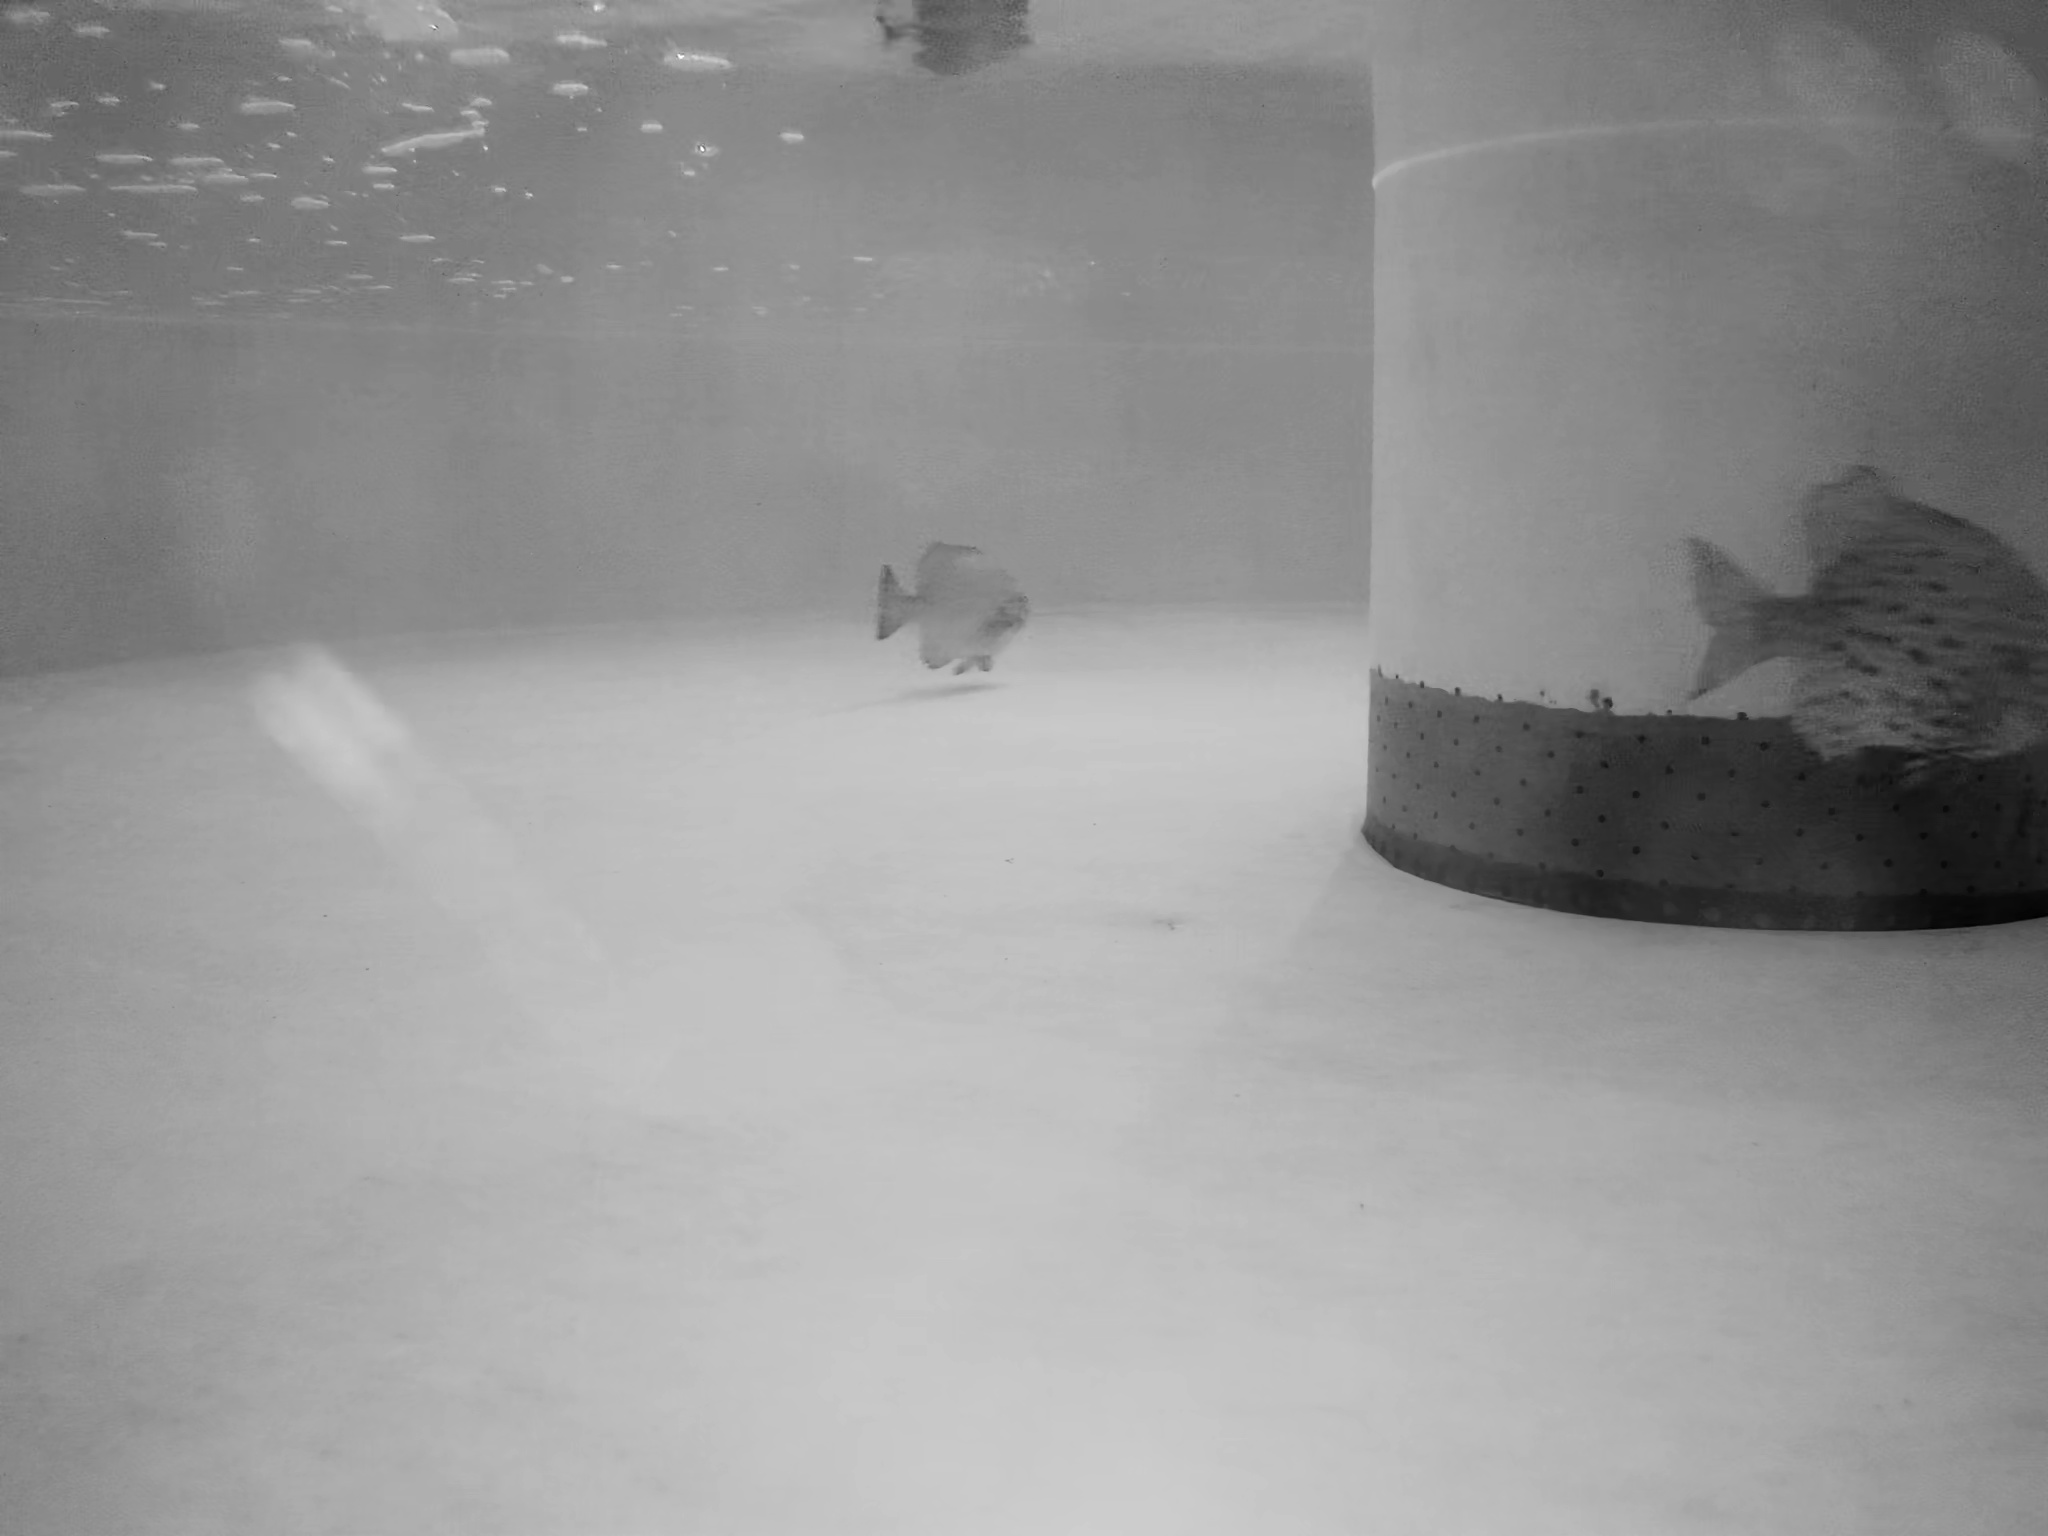fish: (1679, 461, 2048, 768), (871, 534, 1034, 686), (872, 2, 1040, 71)
